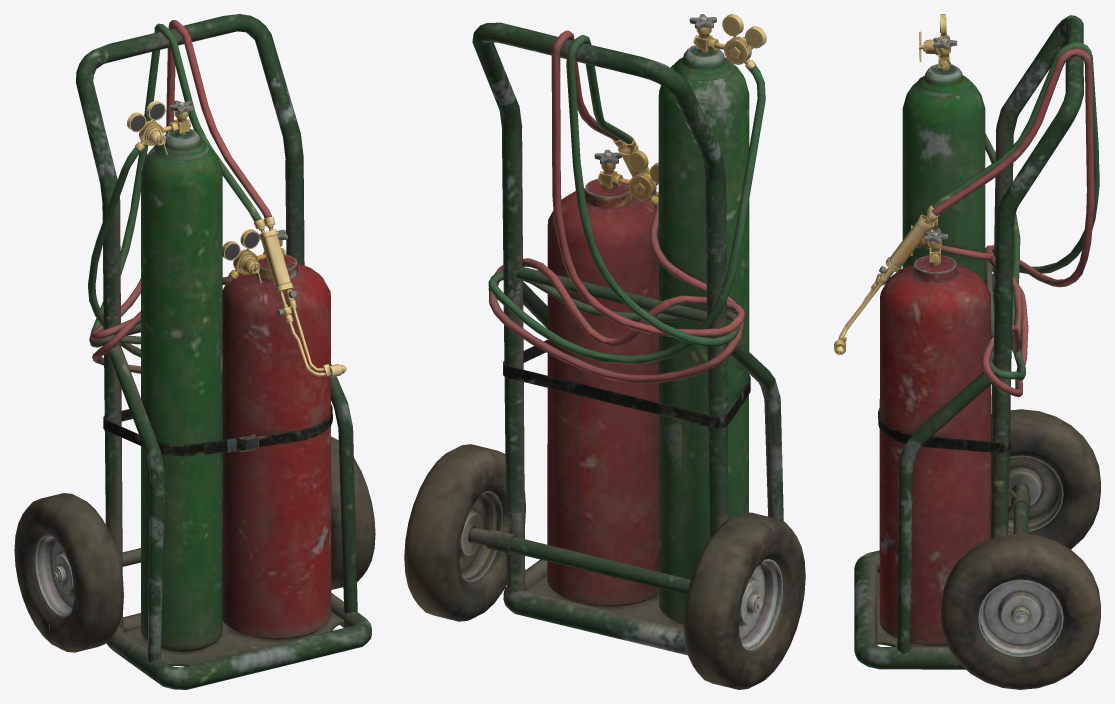
The model's file is portable_welding_cart.glb.
The picture shows the model from 3 angles, left to right: view 1: azimuth 30°, elevation 25°; view 2: azimuth 150°, elevation 25°; view 3: azimuth 270°, elevation 25°; orthographic projection. The views are drawn at different scales.
Parts seen in each view (by area): view 1: portable_welding_cart; view 2: portable_welding_cart; view 3: portable_welding_cart.
Boxes of the visible parts, <box> form: portable_welding_cart: <box>14,14,375,689</box>; portable_welding_cart: <box>404,14,805,689</box>; portable_welding_cart: <box>834,14,1100,689</box>.
Size of the model in its own units: 0.8382 by 1.56 by 0.6541.
Materials: 2 (2 with a texture image).
